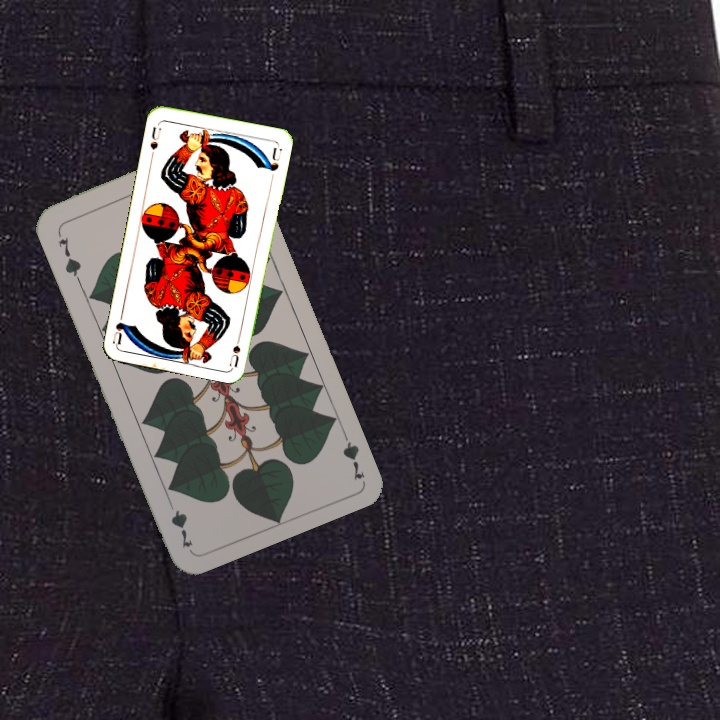G7: (337, 424, 368, 483), (54, 233, 84, 283)
SU: (226, 327, 244, 368), (146, 120, 164, 160)
